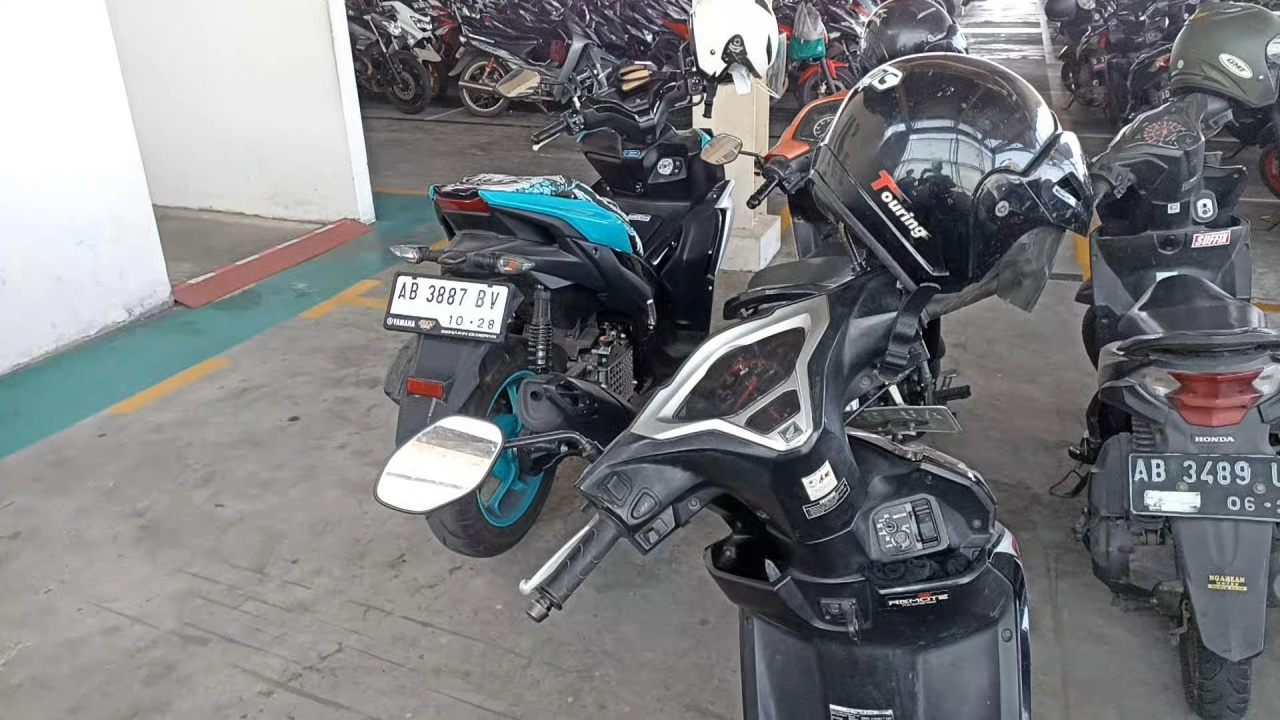plate: (384, 273, 512, 341)
